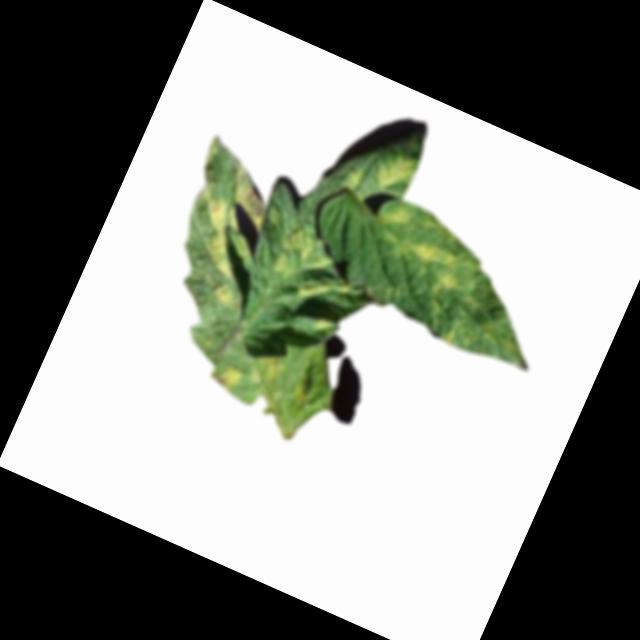Leaf_Mold: (260, 220, 370, 316), (390, 228, 476, 301), (219, 164, 281, 229), (370, 147, 422, 198), (196, 232, 246, 282), (196, 197, 237, 237), (378, 196, 418, 236), (207, 356, 248, 394), (203, 278, 244, 313)
